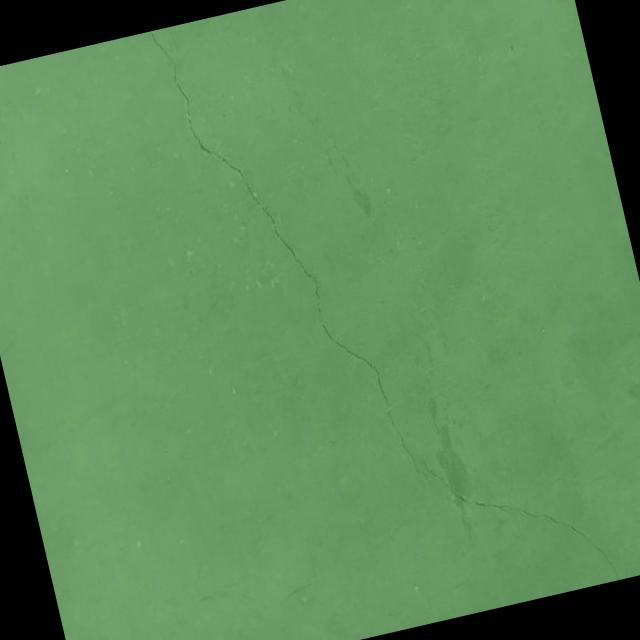crack: (148, 0, 427, 517), (416, 416, 621, 618)
